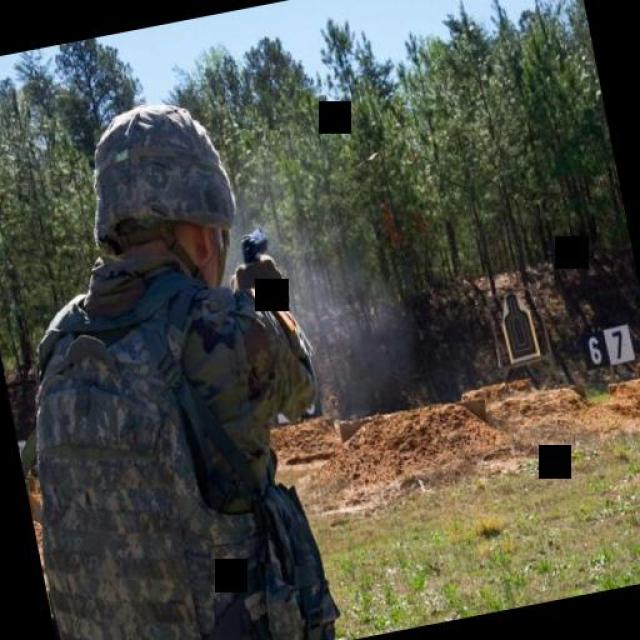gun: (233, 216, 275, 270)
